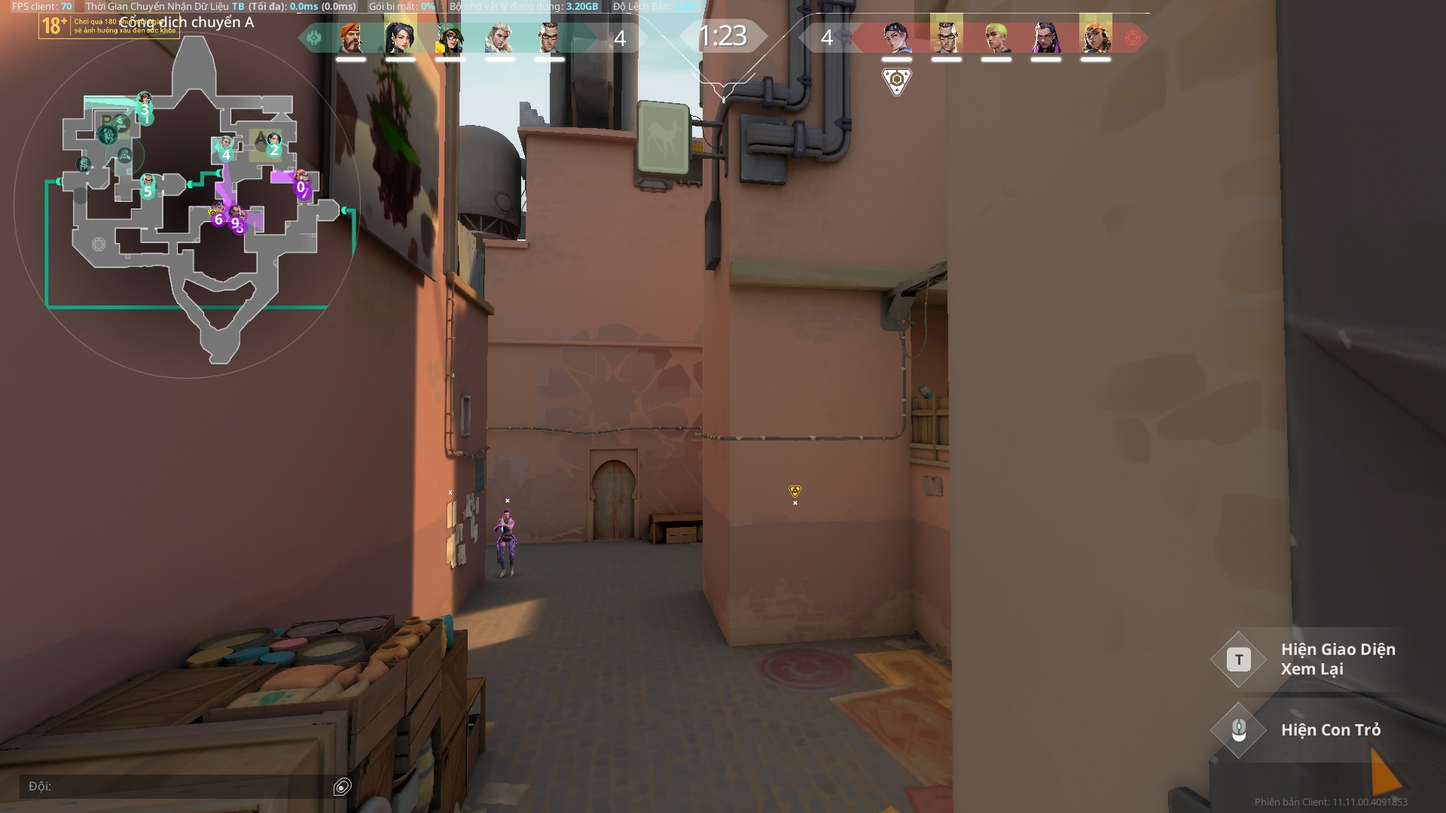body: (499, 517, 514, 536)
head: (502, 507, 511, 518)
